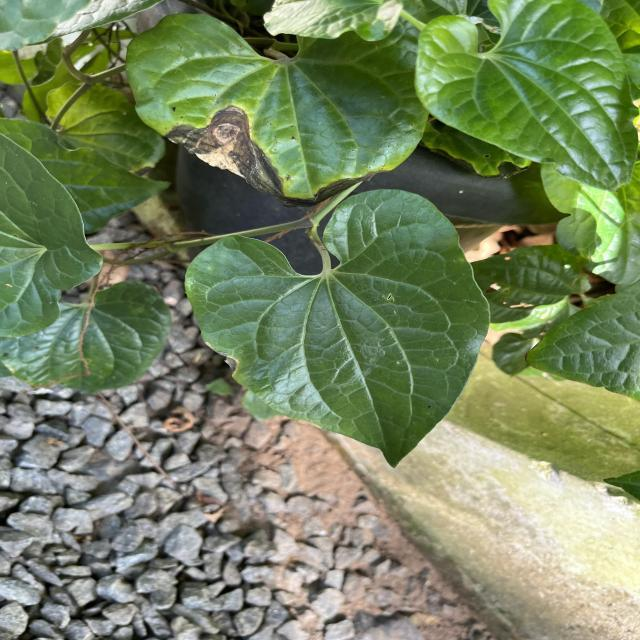Piper longum: (179, 185, 493, 470)
